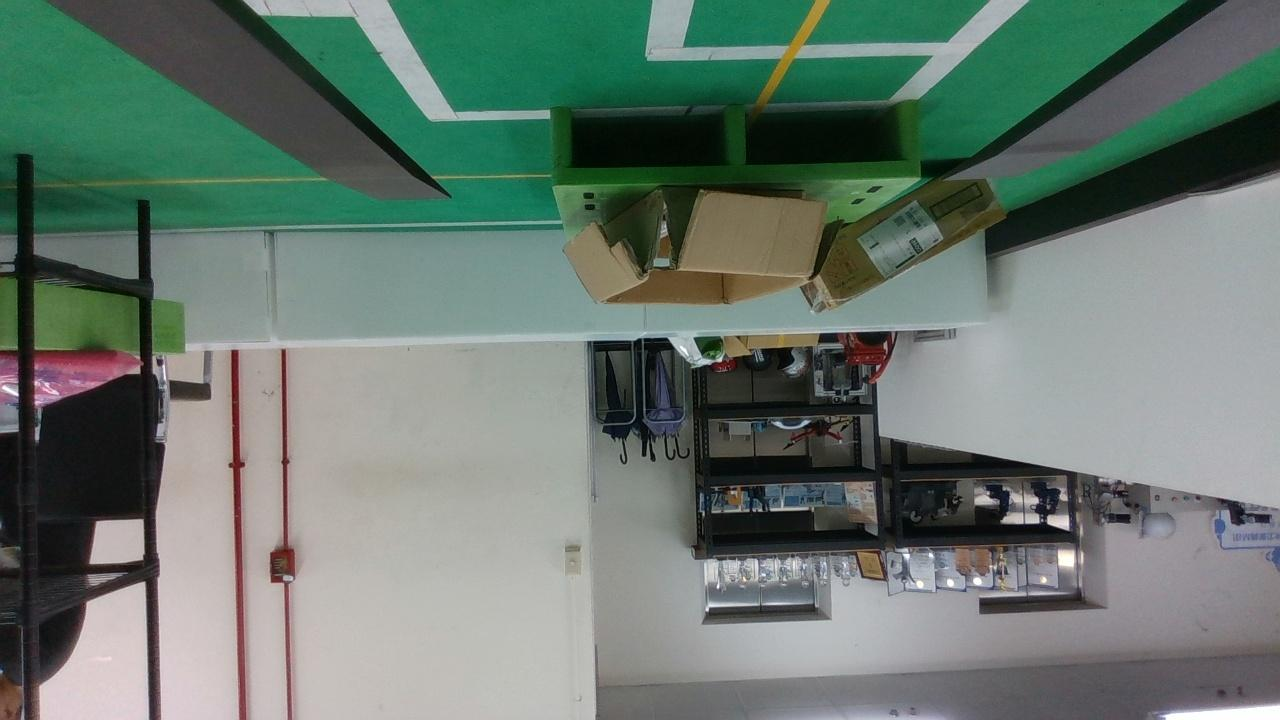Pallet: (548, 95, 929, 189)
